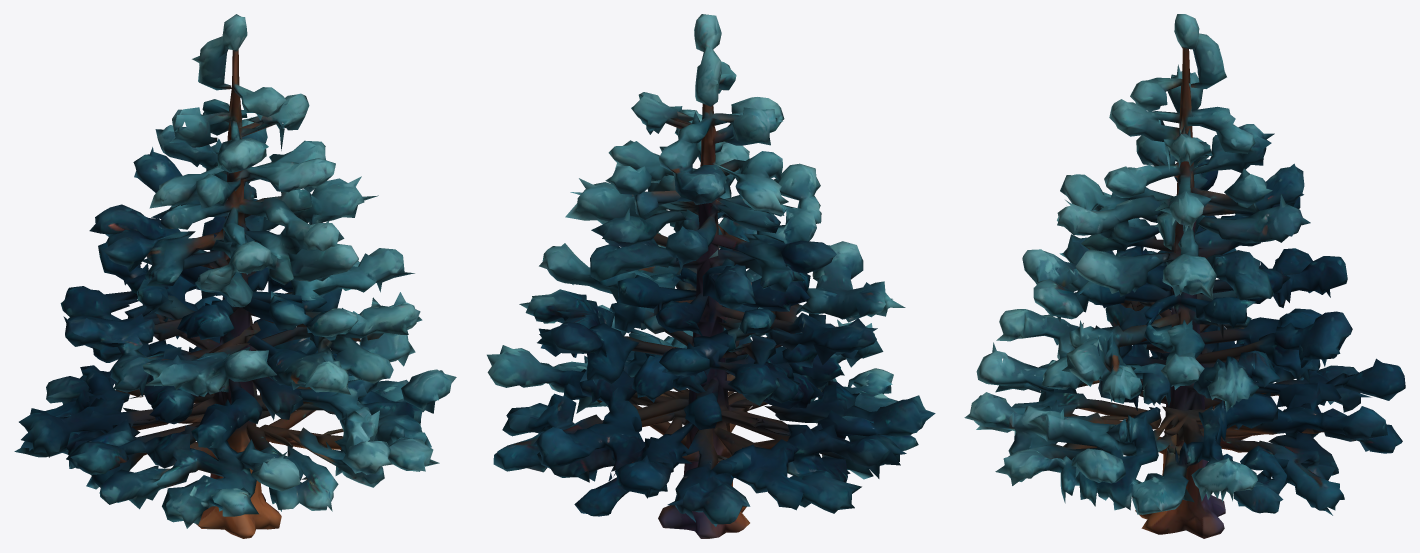
File: pine.glb
3 views of the same model, side by side, from view 1: azimuth 30°, elevation 25°; view 2: azimuth 150°, elevation 25°; view 3: azimuth 270°, elevation 25° (orthographic).
Parts seen in each view (by area): view 1: tripo_node_82d976fb-4c04-4723-8f20-a3ad97b44ef2; view 2: tripo_node_82d976fb-4c04-4723-8f20-a3ad97b44ef2; view 3: tripo_node_82d976fb-4c04-4723-8f20-a3ad97b44ef2.
Boxes of the visible parts, left/top/right/bottom form: tripo_node_82d976fb-4c04-4723-8f20-a3ad97b44ef2: left=14, top=14, right=456, bottom=538; tripo_node_82d976fb-4c04-4723-8f20-a3ad97b44ef2: left=487, top=14, right=935, bottom=538; tripo_node_82d976fb-4c04-4723-8f20-a3ad97b44ef2: left=964, top=14, right=1405, bottom=538.
Size of the model in its own units: 0.8271 by 0.9937 by 0.7837.
Materials: 1 (1 with a texture image).
